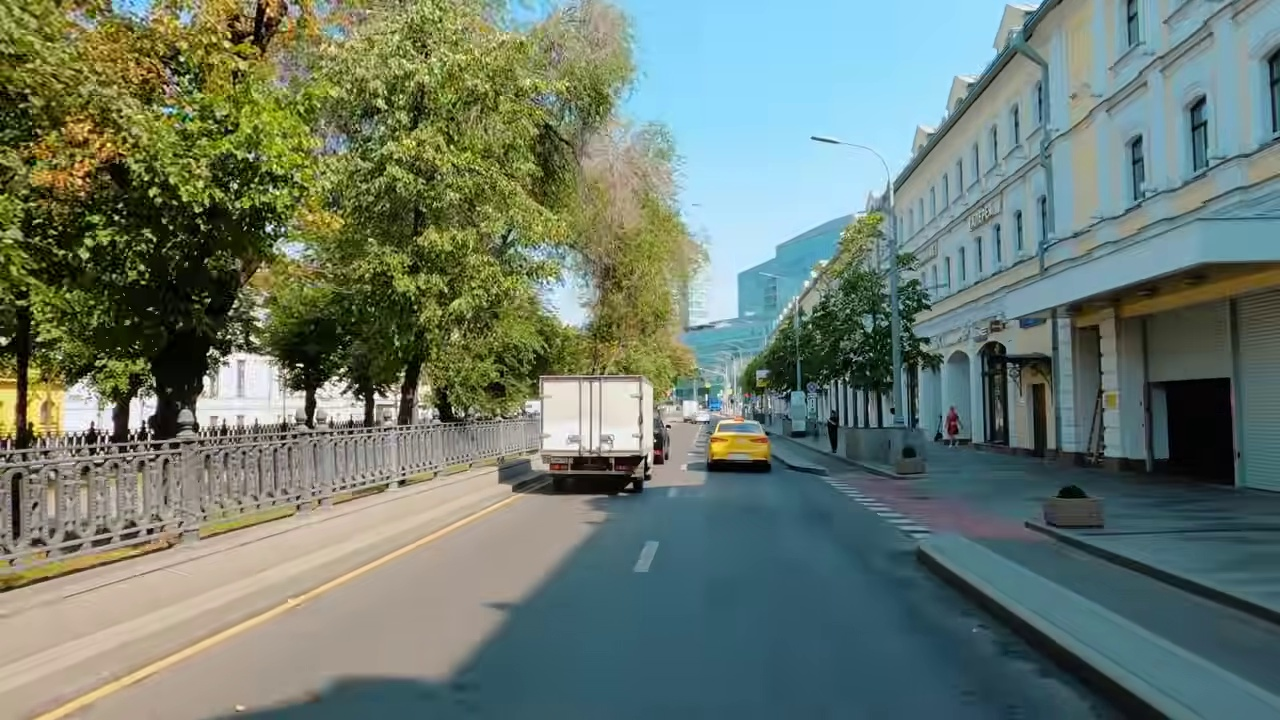apagada: (808, 129, 836, 151)
